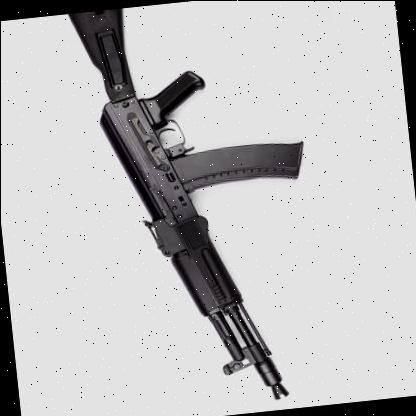rifle: (56, 0, 346, 416)
